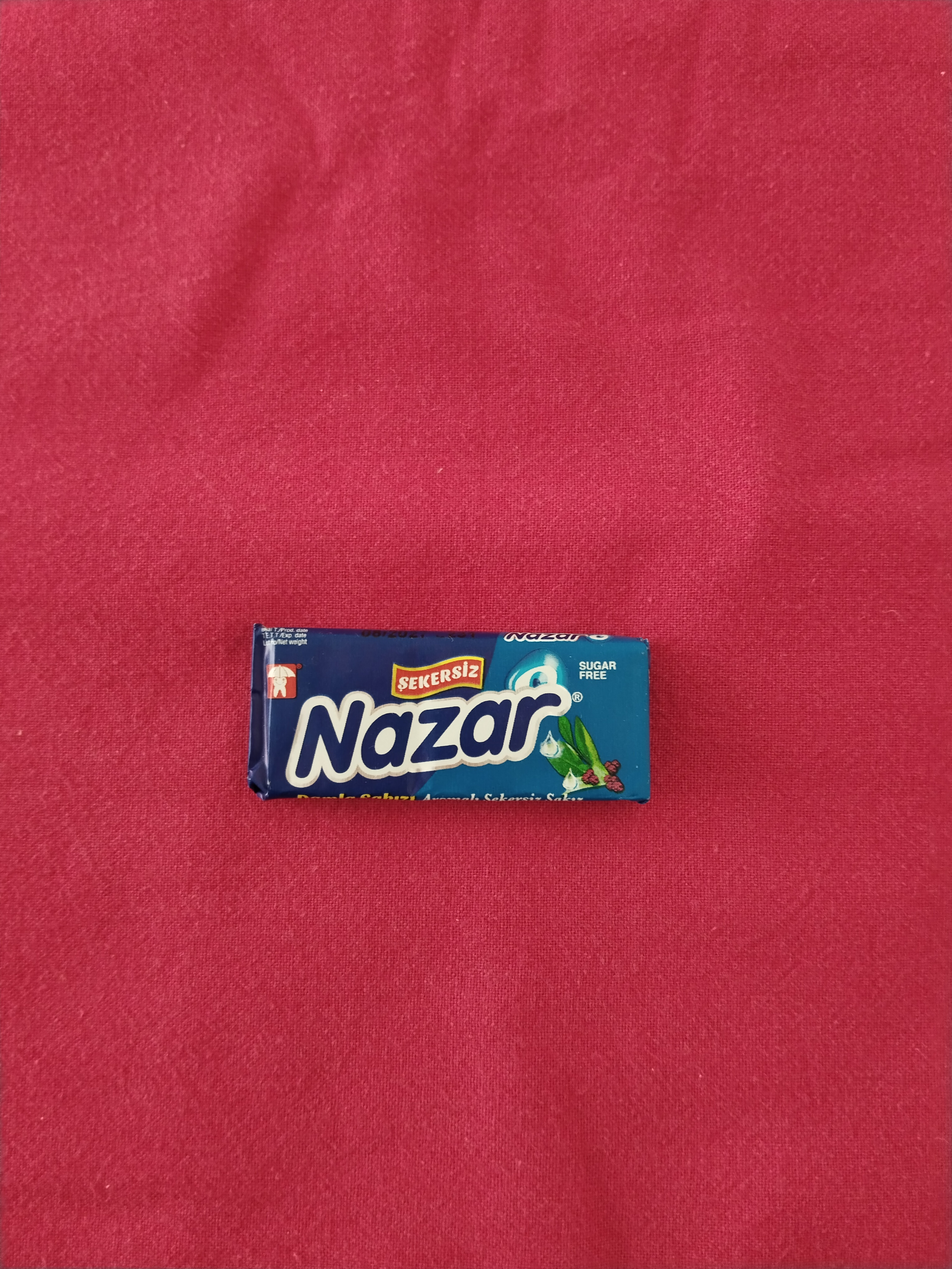nazar_damla_sakizli_sakiz: (251, 629, 649, 800)
